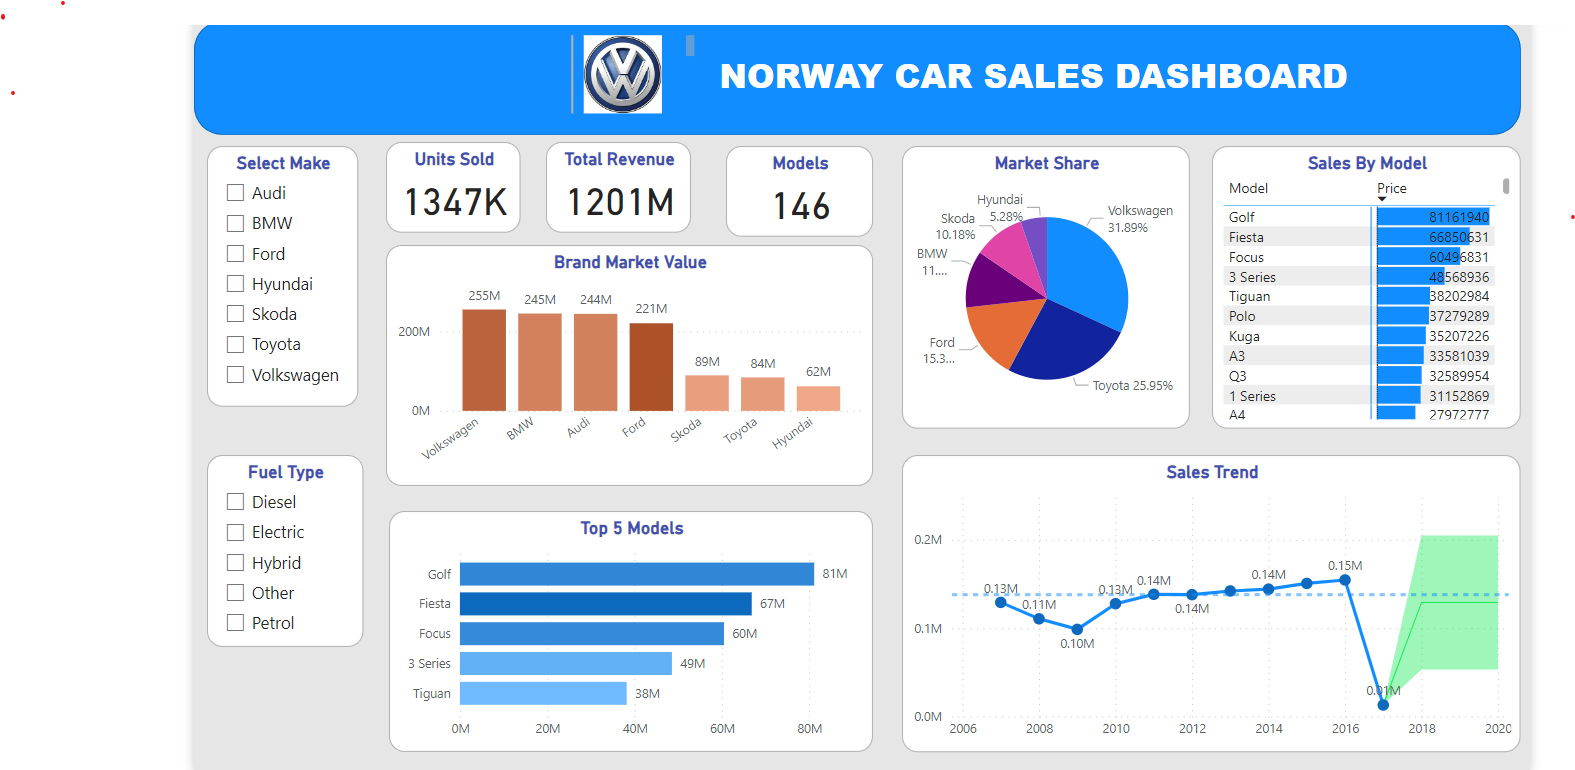

Layout of this report page (visuals, bound fields, positions):
{"tool":"powerbi","page":{"name":"Dashboard","canvas":[1280,720],"ordinal":0},"visuals":[{"type":"card","title":"Units Sold","fields":{"Values":["Sum(Norway_car_sales_by_make.Quantity)"]},"box":[184.1,116,129.4,87.2],"z":0},{"type":"slicer","title":"Select Make","fields":{"Values":["Brands_Master Data.Make"]},"box":[12.5,119.8,144.8,250.2],"z":1000},{"type":"card","title":"Total Revenue","fields":{"Values":["Sum(cars_dataset.price)"]},"box":[337.5,116,139,87.2],"z":2000},{"type":"card","title":"Models","fields":{"Values":["Count(cars_dataset.model)"]},"box":[510,119.8,140.9,87.2],"z":3000},{"type":"clusteredColumnChart","title":"Brand Market Value","fields":{"Category":["cars_dataset.Make"],"Y":["Sum(cars_dataset.price)"]},"box":[184.1,214.8,466.9,231.1],"z":4000},{"type":"clusteredBarChart","title":"Top 5 Models","fields":{"Category":["cars_dataset.model"],"Y":["Sum(cars_dataset.price)"]},"box":[187,469.8,464,231.1],"z":5000},{"type":"pieChart","title":"Market Share","fields":{"Y":["Sum(Norway_car_sales_by_make.Quantity)"],"Category":["Norway_car_sales_by_make.Make"]},"box":[678.8,119.8,276.1,271.3],"z":6000},{"type":"lineChart","title":"Sales Trend","fields":{"Category":["Norway_car_sales_by_make.Year"],"Y":["Sum(Norway_car_sales_by_make.Quantity)"]},"box":[678.8,416.1,593.4,284.7],"z":7000},{"type":"slicer","title":"Fuel Type","fields":{"Values":["cars_dataset.fuelType"]},"box":[12.5,416.1,149.6,184.1],"z":8000},{"type":"pivotTable","title":"Sales By Model","fields":{"Rows":["cars_dataset.model"],"Values":["Sum(cars_dataset.price)"]},"box":[976,119.8,296.2,271.3],"z":9000},{"type":"shape","box":[0,0,1272.2,109.3],"z":10000},{"type":"multiRowCard","fields":{"Values":["Brands_Master Data.Logo.png link"]},"box":[356.6,8.6,127.5,100.7],"z":11000},{"type":"textbox","box":[498.5,24,729.6,60.4],"z":11001}]}

Visuals, with their boxes on the page's 1280x720 design canvas (x1, y1, x2, y2). These are canvas units, not pixel positions in the 1575x770 screenshot, which may show the page scaled, cropped or inside an application window:
"Units Sold" card: select_region(184, 116, 314, 203)
"Select Make" slicer: select_region(12, 120, 157, 370)
"Total Revenue" card: select_region(338, 116, 476, 203)
"Models" card: select_region(510, 120, 651, 207)
"Brand Market Value" clusteredColumnChart: select_region(184, 215, 651, 446)
"Top 5 Models" clusteredBarChart: select_region(187, 470, 651, 701)
"Market Share" pieChart: select_region(679, 120, 955, 391)
"Sales Trend" lineChart: select_region(679, 416, 1272, 701)
"Fuel Type" slicer: select_region(12, 416, 162, 600)
"Sales By Model" pivotTable: select_region(976, 120, 1272, 391)
shape: select_region(0, 0, 1272, 109)
multiRowCard - Brands_Master Data.Logo.png link: select_region(357, 9, 484, 109)
textbox: select_region(498, 24, 1228, 84)
